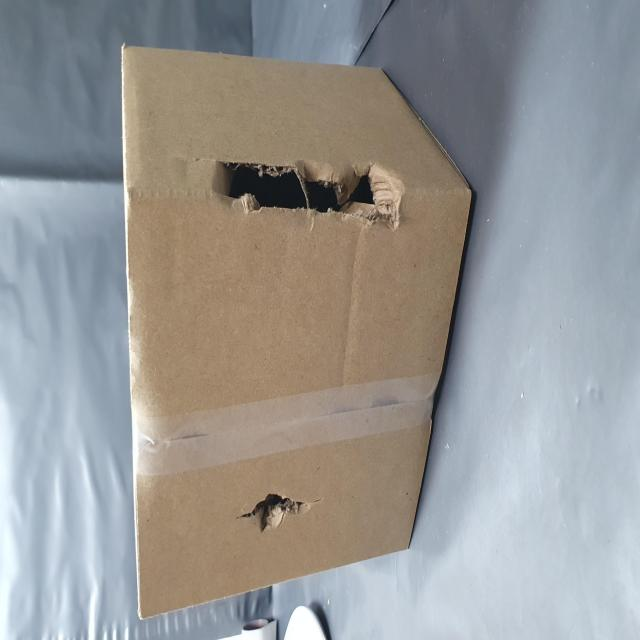damaged: (226, 367, 268, 640), (58, 421, 89, 554)
